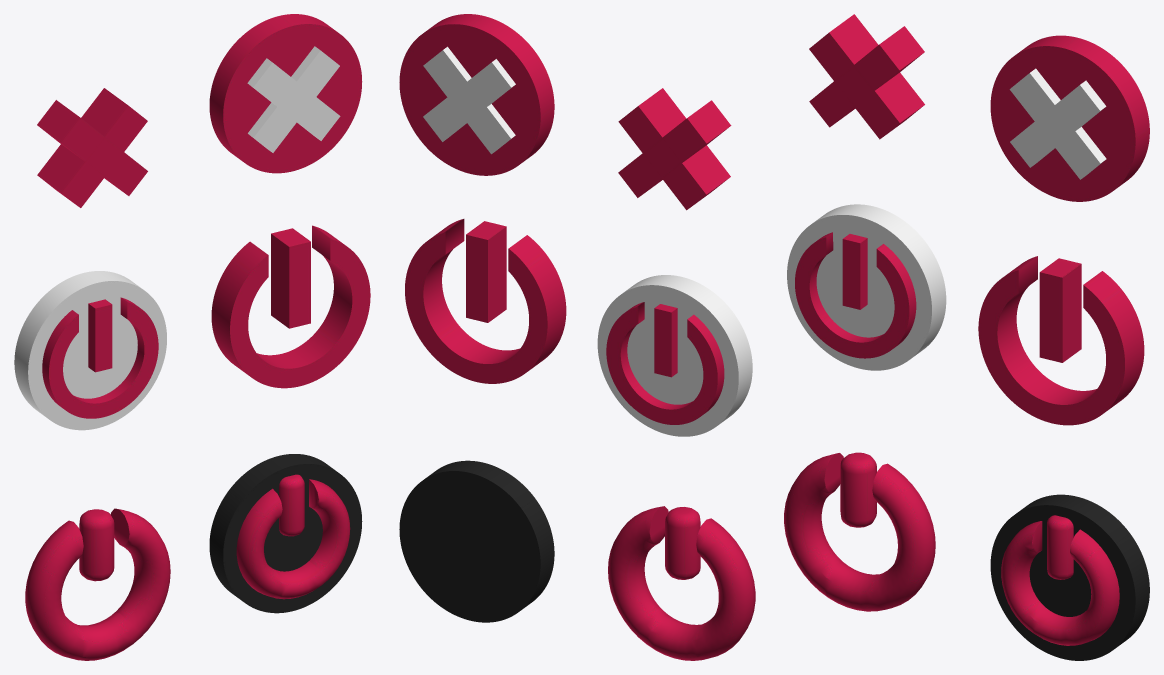
Rendered from ExitIcon.fbx.
3 renders of one model, left to right at view 1: azimuth 30°, elevation 25°; view 2: azimuth 150°, elevation 25°; view 3: azimuth 330°, elevation 25°, orthographic. The views are drawn at different scales.
Visible parts, largest first — view 1: X_button, off_1, 0ff_4, off_2, off_3, X; view 2: 0ff_4, X_button, off_1, off_2, off_3, X; view 3: X_button, off_1, 0ff_4, off_2, off_3, X.
Boxes of the visible parts, <box> form: X_button: <box>209,14,362,173</box>; off_1: <box>14,271,166,430</box>; 0ff_4: <box>209,454,362,613</box>; off_2: <box>211,225,370,388</box>; off_3: <box>25,508,170,660</box>; X: <box>37,88,147,207</box>; 0ff_4: <box>399,460,554,622</box>; X_button: <box>399,14,554,175</box>; off_1: <box>597,275,752,436</box>; off_2: <box>405,219,566,383</box>; off_3: <box>608,506,755,660</box>; X: <box>618,88,731,210</box>; X_button: <box>990,35,1149,201</box>; off_1: <box>787,204,946,370</box>; 0ff_4: <box>990,494,1149,660</box>; off_2: <box>978,256,1144,425</box>; off_3: <box>784,452,935,611</box>; X: <box>809,14,924,139</box>.
Bounding box in the file's own units: 47.64 × 79.75 × 7.41.
6 materials, 6 textured.
